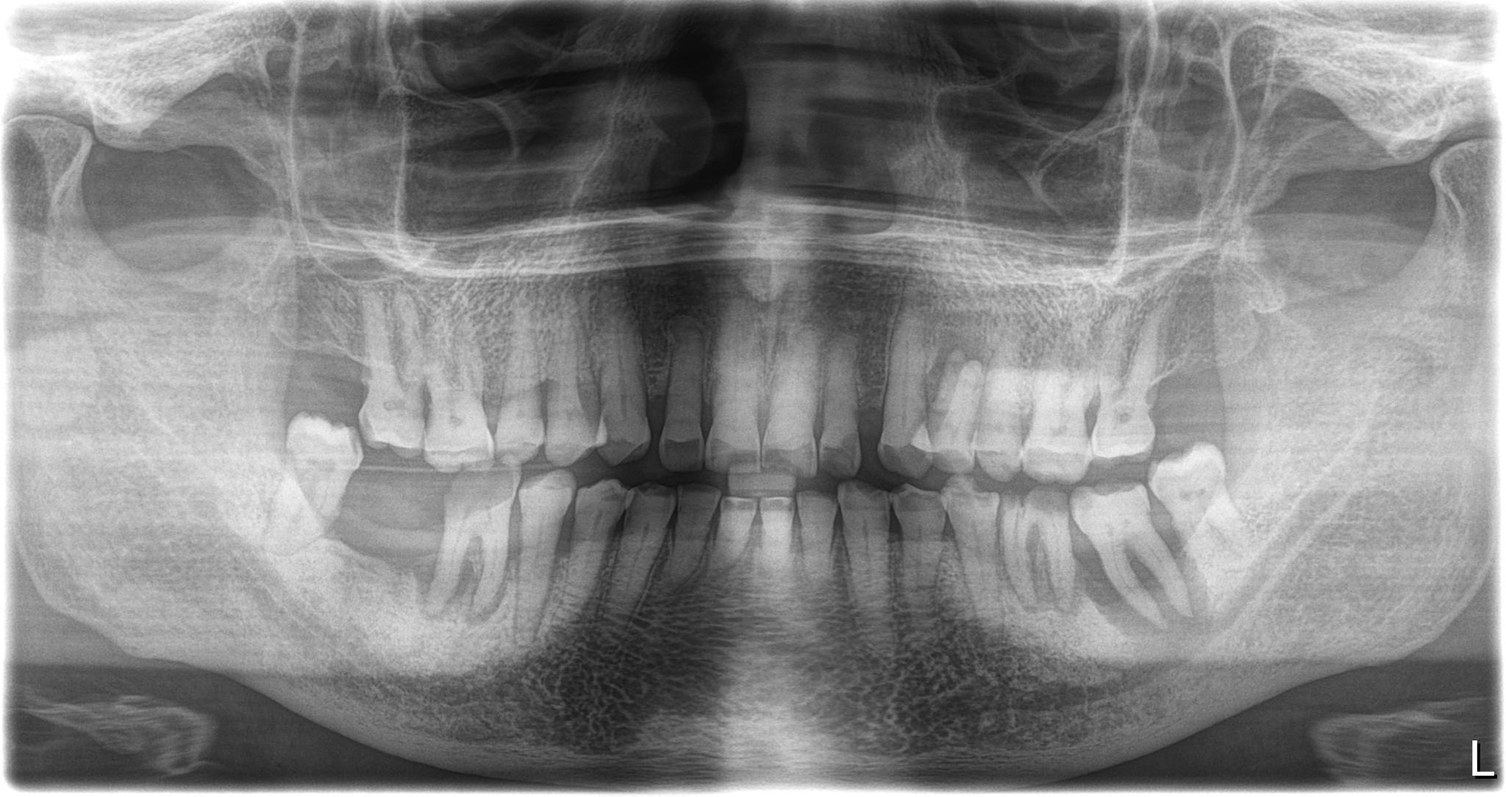Dental Caries: (452, 468, 518, 517)
Missing Tooth: (290, 270, 363, 395), (1158, 294, 1218, 446), (366, 459, 440, 574)
Periapical Lesion: (1107, 542, 1192, 626), (443, 529, 502, 602)
Retained Root: (1009, 492, 1082, 620)
